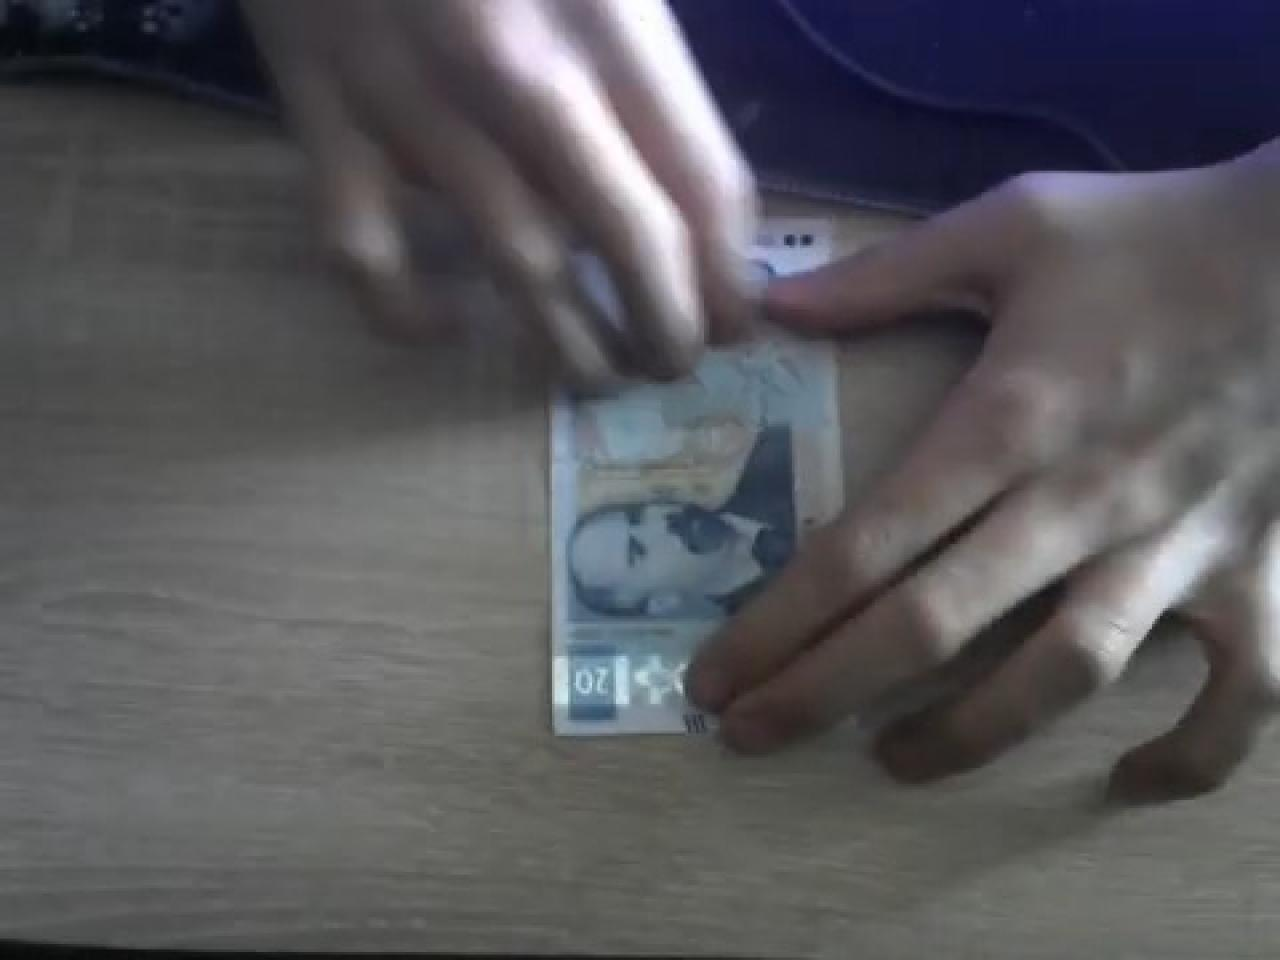20leva: (546, 341, 840, 741)
